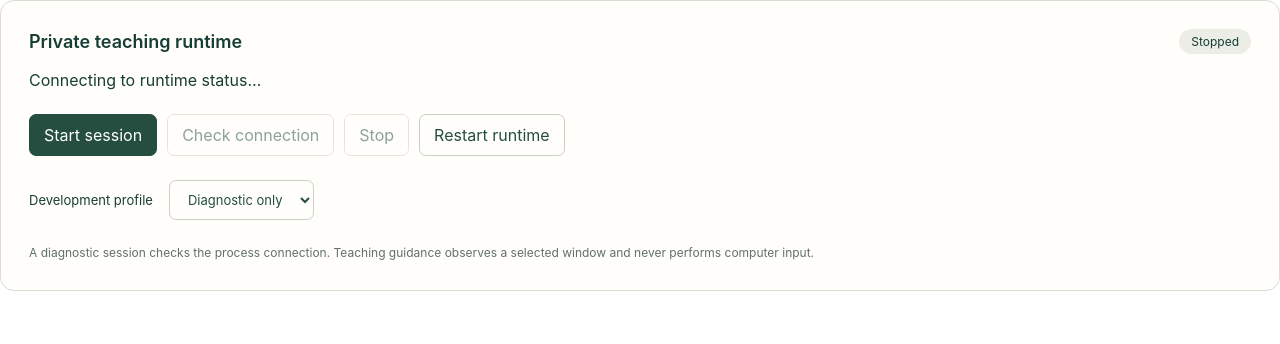
Test: displays sanitized failures
The width and height of the screenshot is (1280, 344).
Click the button "Start session": (93, 135) [29,114,157,156]
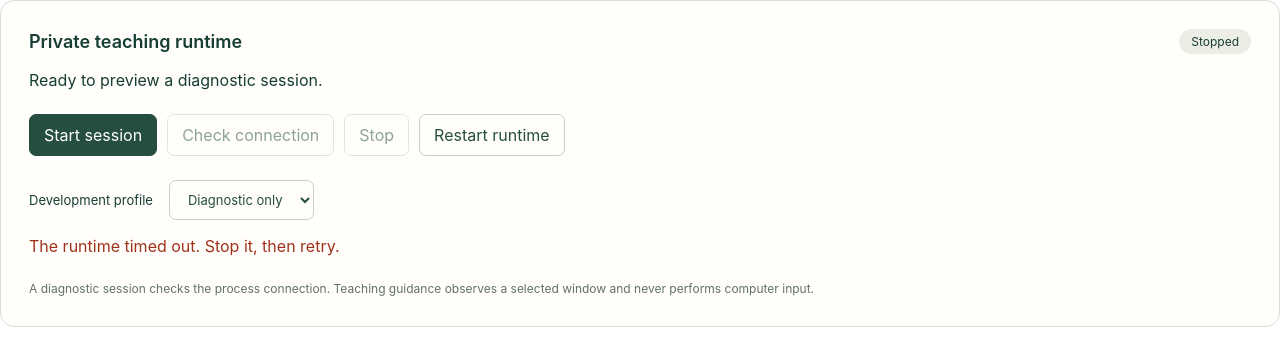
Result: the message "The runtime timed out. Stop it, then retry." is shown at [29,236,340,256]
